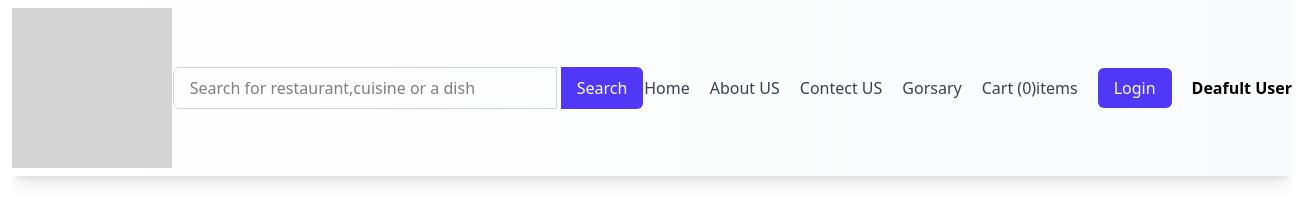
Test case: Header Component Test Cases › should change login button to logout button
This screenshot has width=1304, height=202.
Click the button "Login" at (1135, 88), box x1=1098 y1=68 x2=1172 y2=108
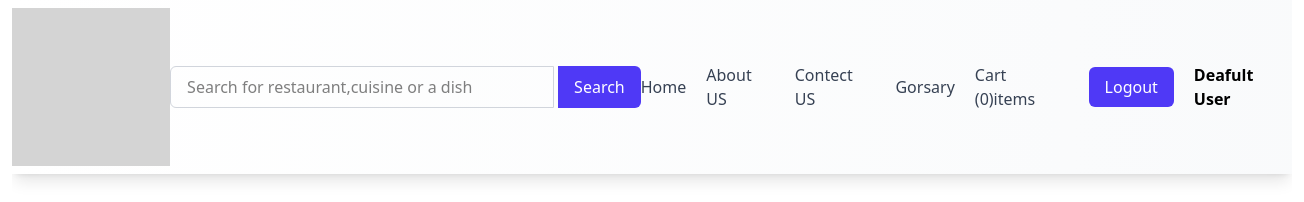
Expected: the button "Logout" is shown, x1=1089 y1=67 x2=1174 y2=107
